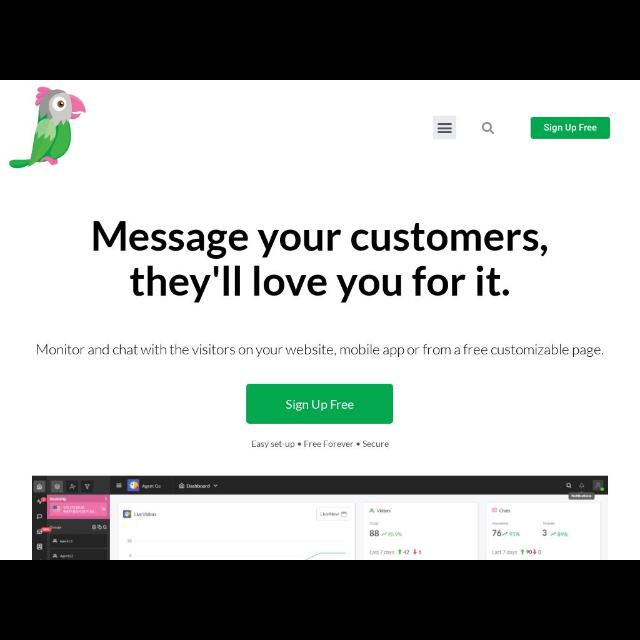icon: (434, 116, 458, 140), (482, 124, 493, 134)
image: (32, 478, 604, 558), (13, 88, 86, 170)
text: (93, 222, 547, 302), (39, 344, 604, 358), (250, 440, 388, 448)
textbutton: (248, 386, 390, 424), (532, 118, 610, 138)
